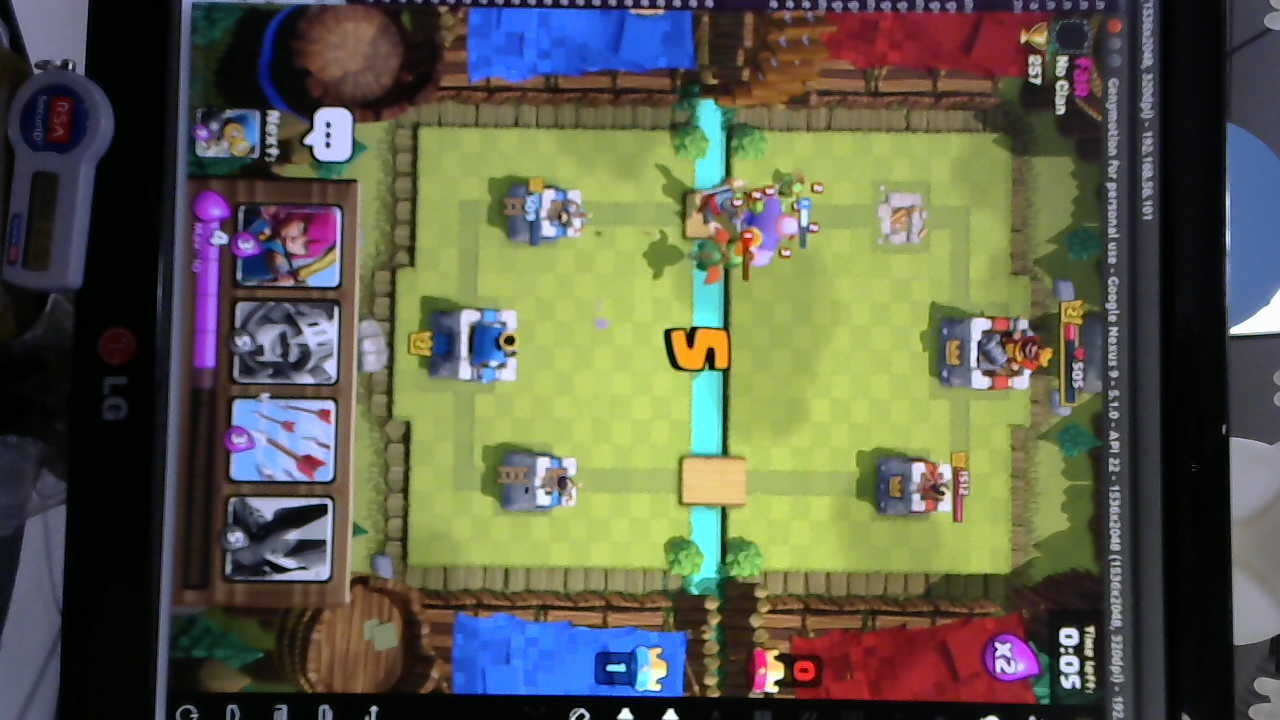arena: (494, 447, 580, 519), (508, 184, 583, 244)
darena: (870, 181, 930, 250)
dragon: (686, 229, 745, 282)
earena: (876, 452, 954, 520)
eking: (936, 310, 1043, 400)
giant: (744, 193, 801, 270)
king: (436, 301, 524, 388)
knight: (690, 182, 740, 223)
speargoblin: (771, 169, 819, 202)
